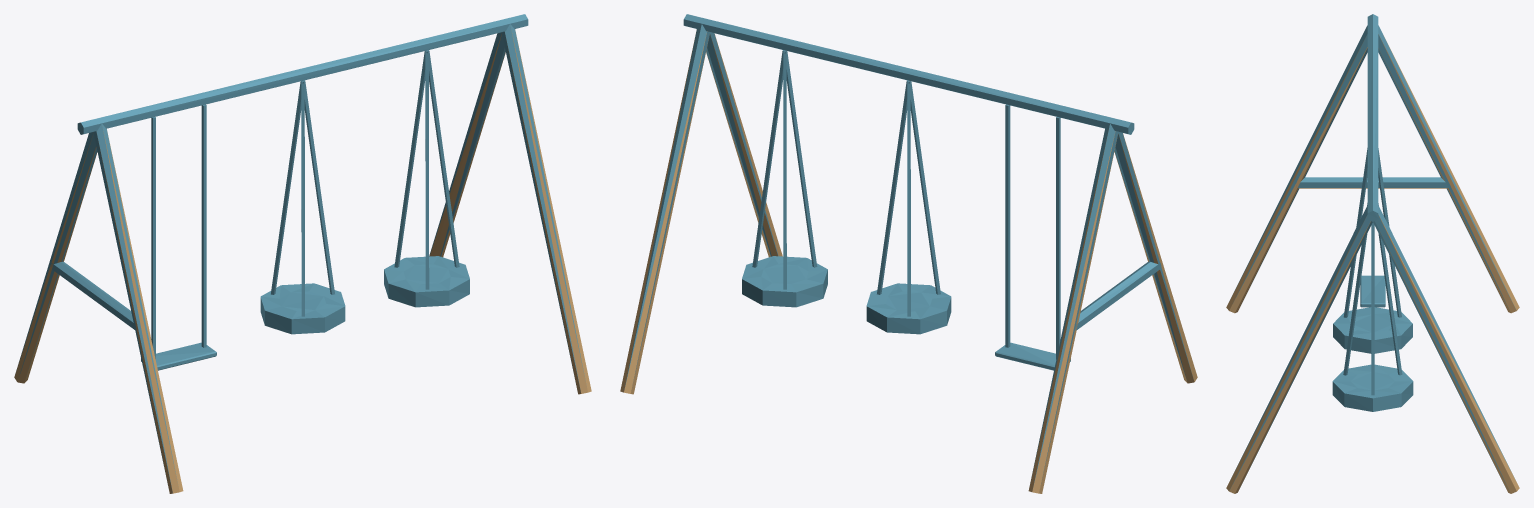
File: swing-set-00.glb
The picture shows the model from 3 angles, left to right: view 1: azimuth 30°, elevation 25°; view 2: azimuth 150°, elevation 25°; view 3: azimuth 270°, elevation 25°; orthographic projection. The views are drawn at different scales.
Parts seen in each view (by area): view 1: swing_set_00; view 2: swing_set_00; view 3: swing_set_00.
Boxes of the visible parts, x1,y1,x2,y2 form: swing_set_00: (14, 14, 591, 493); swing_set_00: (620, 14, 1197, 493); swing_set_00: (1226, 14, 1519, 493).
Size of the model in its own units: 3.69 by 2.54 by 2.33.
